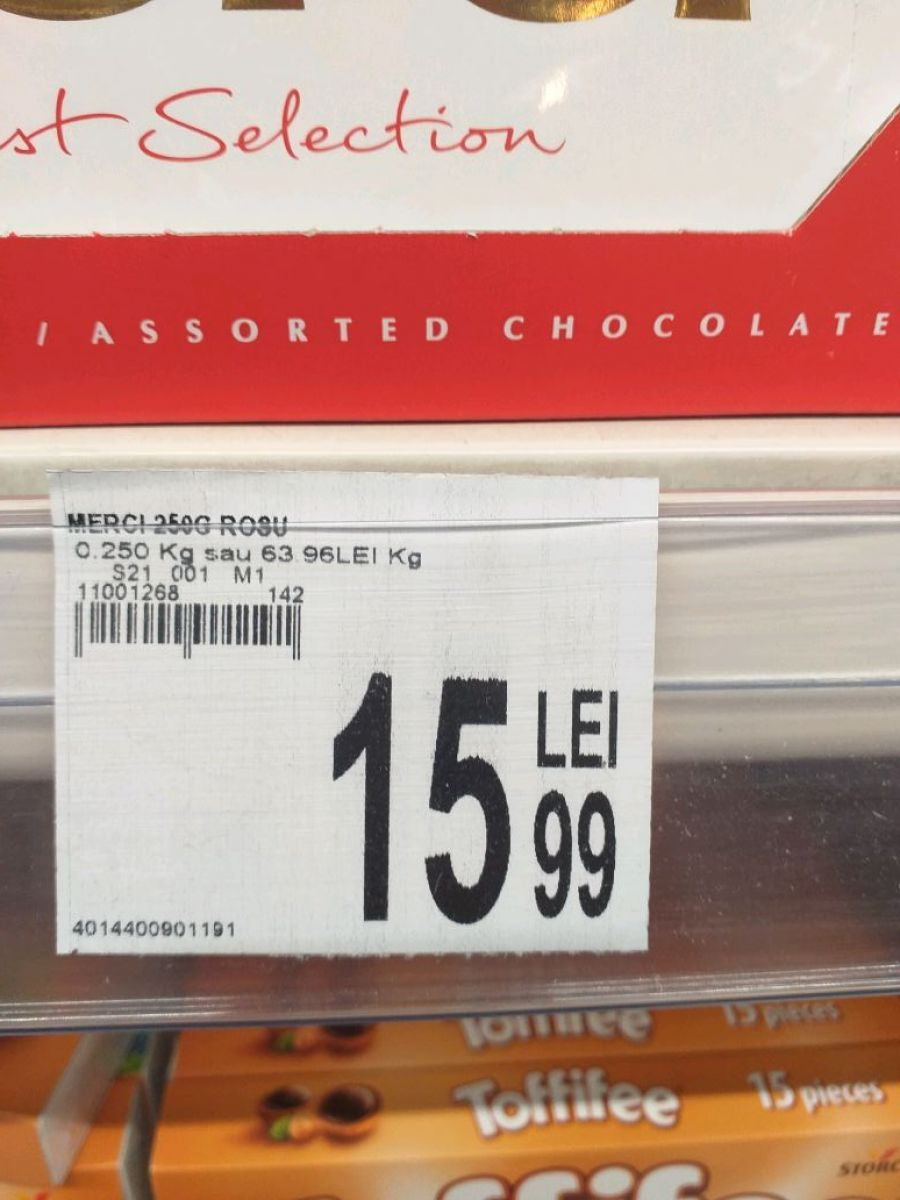price_bani: (515, 781, 625, 936)
price_lei: (315, 665, 521, 943)
price_tag: (30, 446, 687, 981)
product_id: (65, 914, 251, 947)
product_name: (58, 507, 308, 538)
